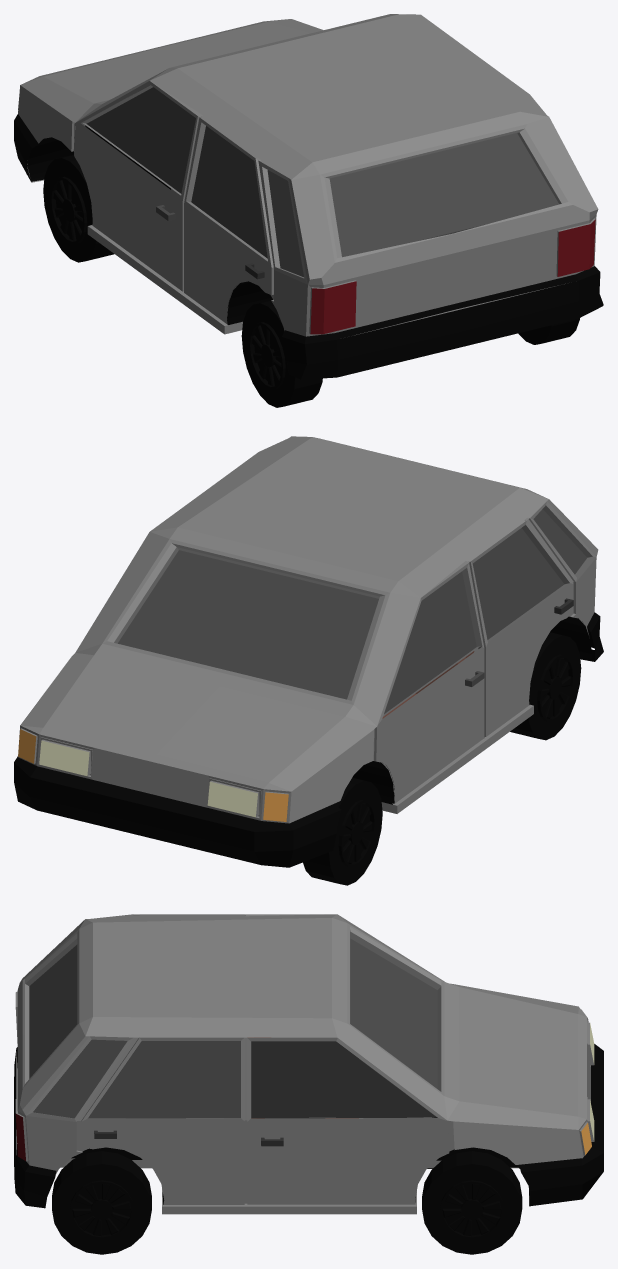
The model's file is Avto.fbx.
The picture shows the model from 3 angles, top to bottom: view 1: azimuth 30°, elevation 25°; view 2: azimuth 150°, elevation 25°; view 3: azimuth 270°, elevation 25°; orthographic projection. The views are drawn at different scales.
Parts seen in each view (by area): view 1: Cube, DoorLeft, Wheel, WheelFrontLeft, Cylinder; view 2: Cube, DoorLeft, WheelFrontLeft, Wheel, Cylinder; view 3: Cube, DoorRight, WheelFrontRight, Wheel, Cylinder.
Part boxes in pixels (x1,y1,x2,y2): Cube: (14,14,603,379); DoorLeft: (74,81,197,291); Wheel: (241,300,579,407); WheelFrontLeft: (43,154,113,262); Cylinder: (27,127,272,324); Cube: (14,436,603,867); DoorLeft: (376,563,484,803); WheelFrontLeft: (303,777,382,885); Wheel: (510,632,581,740); Cylinder: (352,616,592,804); Cube: (14,914,603,1214); DoorRight: (247,1038,449,1204); WheelFrontRight: (422,1151,522,1254); Wheel: (52,1151,151,1254); Cylinder: (71,1117,529,1204).
Size of the model in its own units: 585 by 420 by 1014.
